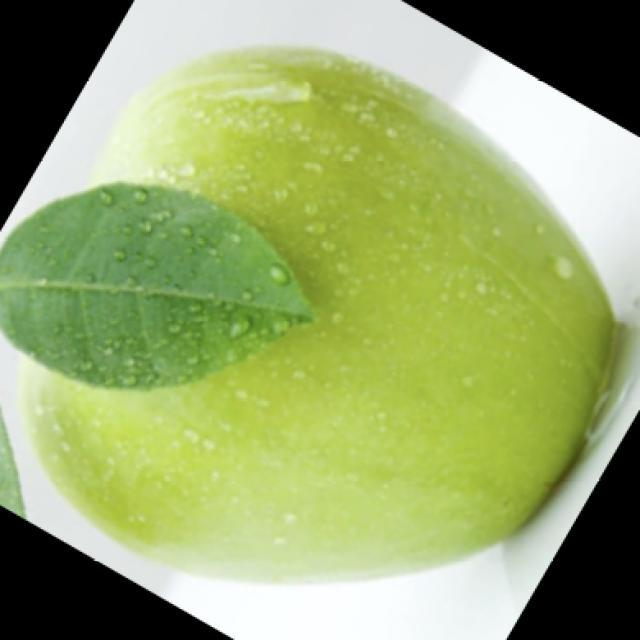Fresh Apple: (68, 70, 592, 533)
